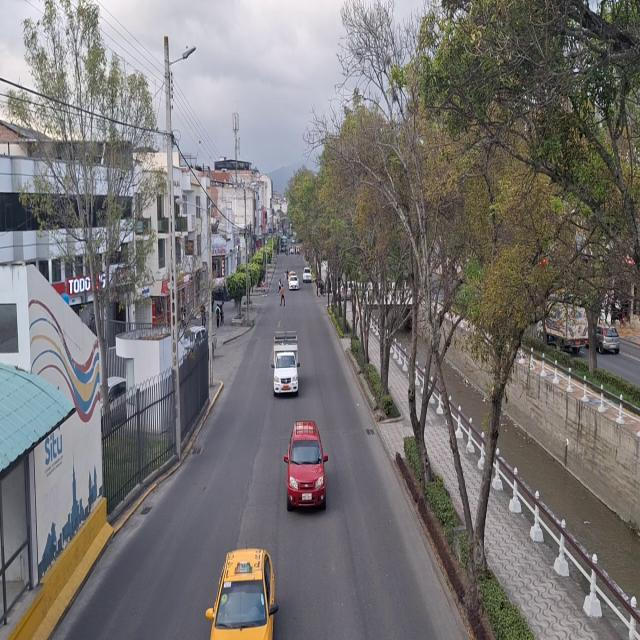CMT: (273, 326, 299, 395)
SUV: (286, 427, 324, 511)
